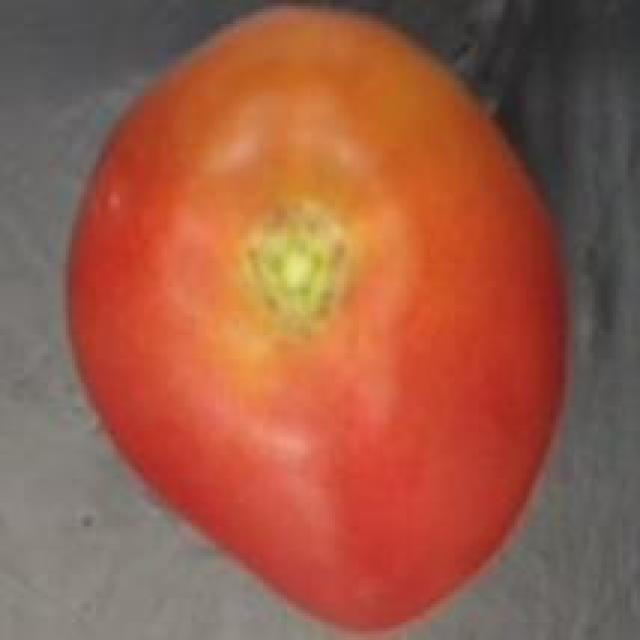overripe tomato: (69, 3, 571, 640)
